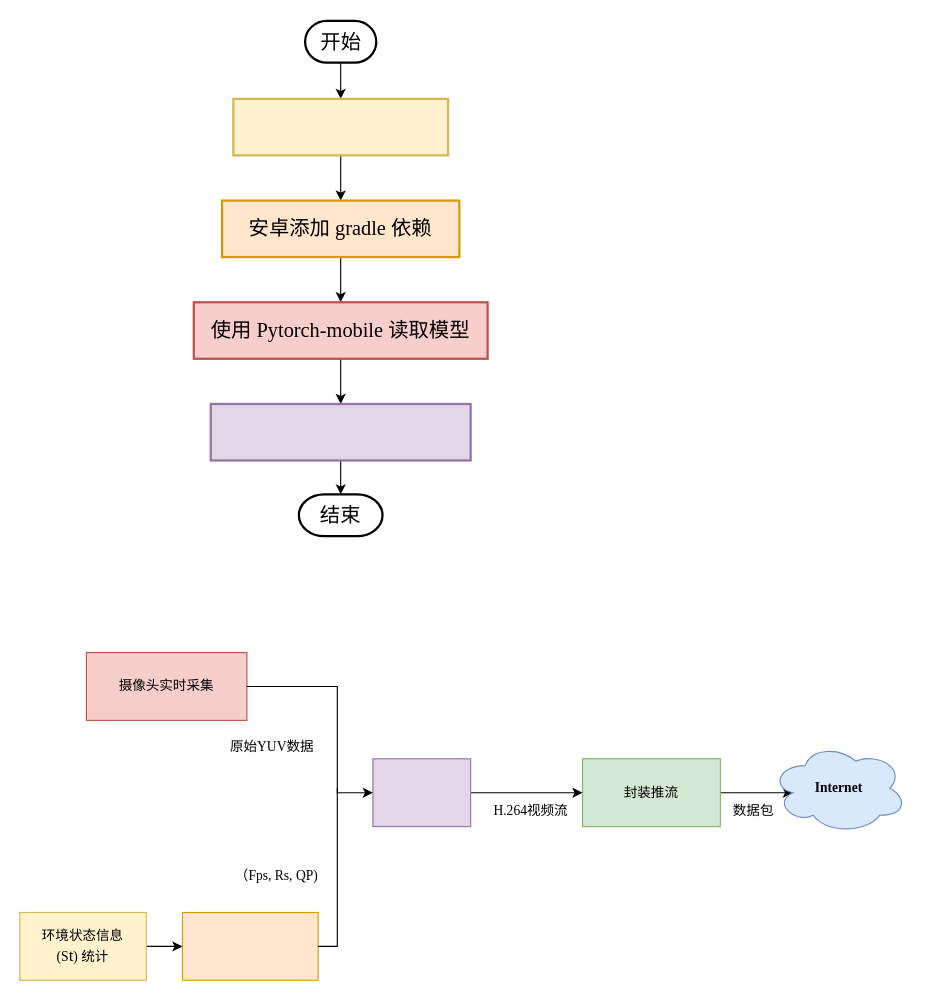
Image size: 927x1000. Some labels were removed from this diagram. The centre of each missing label's shape, as x and y in pixels:
"module.forward 运行模型" goes at pixel 340 431.
"模型准备： model.pt" goes at pixel 340 126.
"视频参数自适应选择模块" goes at pixel 249 945.
"视频编码" goes at pixel 421 792.
